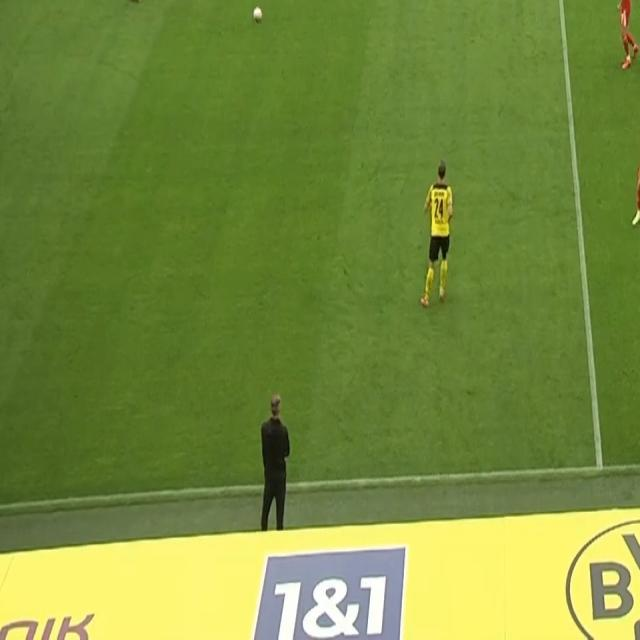ball: (252, 5, 264, 25)
